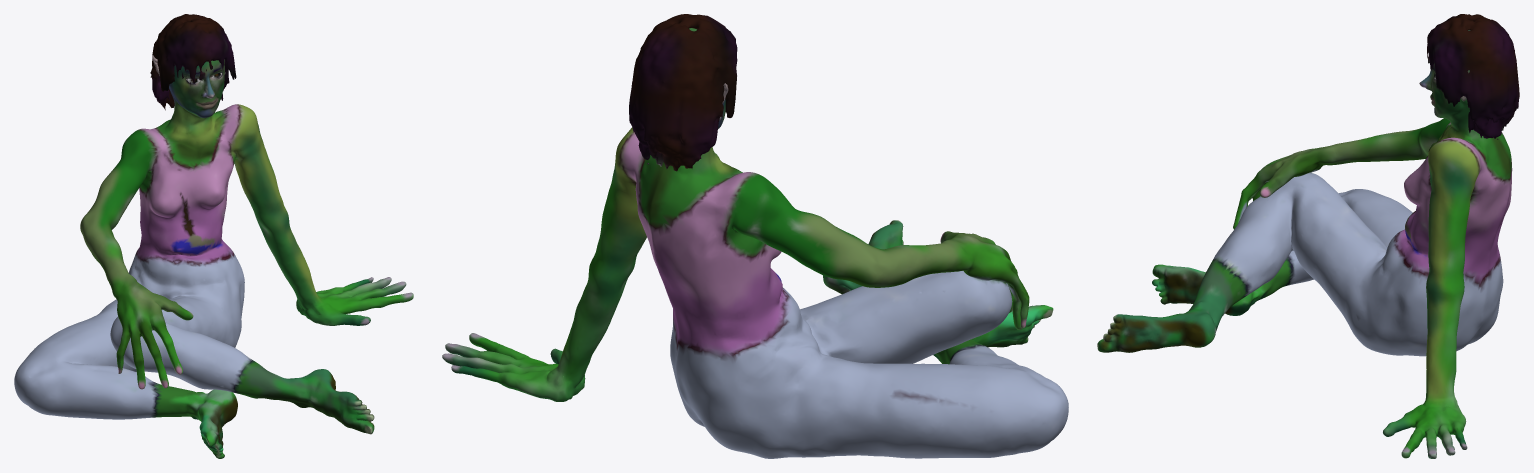
The model's file is sitting-girl.glb.
3 renders of one model, left to right at view 1: azimuth 30°, elevation 25°; view 2: azimuth 150°, elevation 25°; view 3: azimuth 270°, elevation 25°, orthographic. The views are drawn at different scales.
Visible parts, largest first — view 1: Corps lie, Mesh.001; view 2: Corps lie, Mesh.001; view 3: Corps lie, Mesh.001.
Part boxes in pixels (left/top/right/bottom): Corps lie: left=14, top=55, right=413, bottom=458; Mesh.001: left=150, top=14, right=236, bottom=110; Corps lie: left=442, top=28, right=1068, bottom=458; Mesh.001: left=629, top=14, right=737, bottom=171; Corps lie: left=1097, top=30, right=1512, bottom=458; Mesh.001: left=1427, top=14, right=1519, bottom=139.
Bounding box in the file's own units: 6.92 × 4.97 × 5.42.
